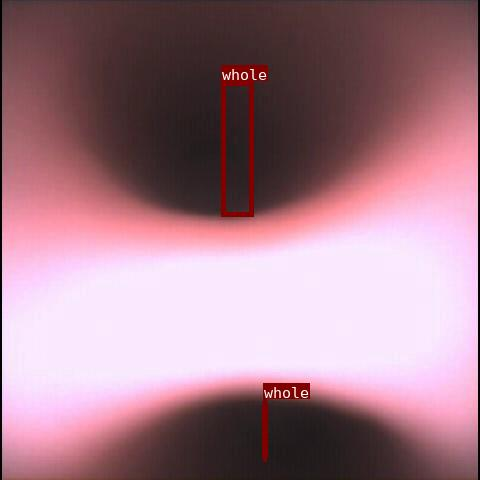whole: (221, 81, 253, 216), (263, 399, 266, 461)
